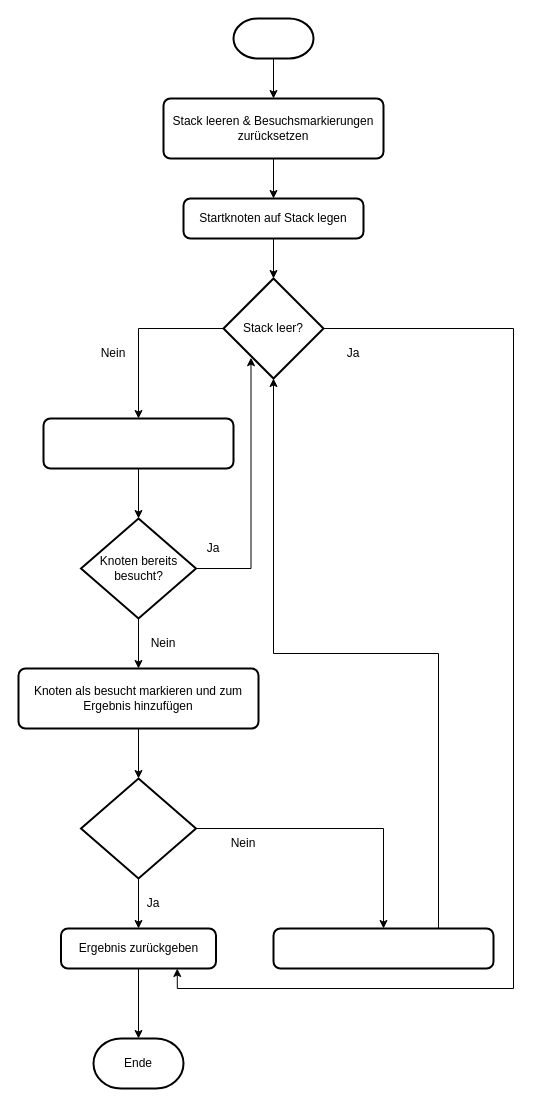
This 539x1106 diagram has some shape labels left out. Here are the shapes that lost their labels. From the top down, the centre of each, then its label:
At pixel 273 38: "Start".
At pixel 138 443: "Obersten Knoten vom Stack nehem".
At pixel 138 828: "Ist es der Zielknoten?".
At pixel 383 948: "Unbesuchte Nachbarn auf Stack legen".
